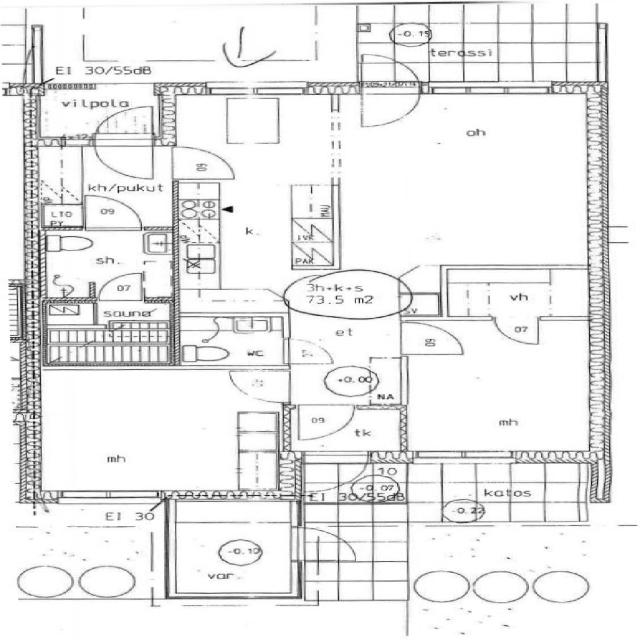door: (33, 225, 177, 301), (351, 50, 427, 132), (86, 102, 160, 184), (283, 404, 364, 442), (292, 523, 363, 564), (395, 320, 471, 358), (225, 366, 296, 404), (81, 192, 144, 231), (170, 144, 238, 180), (489, 314, 547, 350), (281, 336, 337, 366), (97, 272, 149, 302)
window: (421, 79, 562, 101), (41, 488, 168, 507)
zone: (329, 95, 602, 272), (32, 362, 286, 500), (175, 98, 340, 299), (399, 321, 605, 460), (168, 497, 298, 599), (415, 458, 598, 525), (35, 228, 177, 302), (40, 300, 174, 365), (441, 266, 581, 318), (172, 313, 290, 369), (284, 403, 402, 456), (288, 268, 404, 318), (80, 255, 158, 305), (398, 319, 468, 358)
